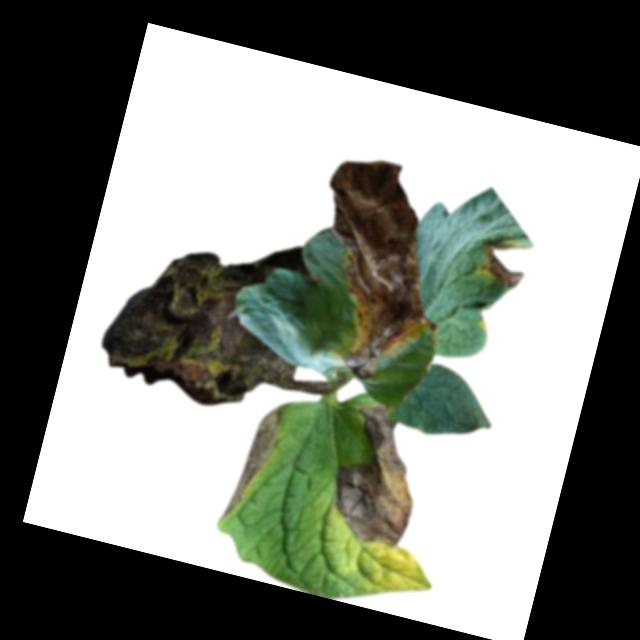Early_blight: (91, 205, 323, 427), (286, 148, 474, 393), (323, 398, 435, 550), (221, 398, 284, 526), (473, 231, 533, 291)
